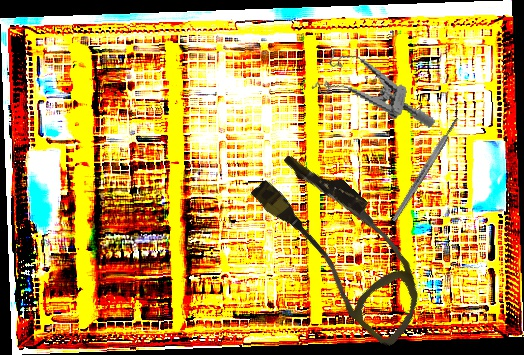Cannula: (234, 140, 453, 350)
Scalpel Handle: (390, 116, 461, 223)
Speculum: (307, 46, 447, 129)
